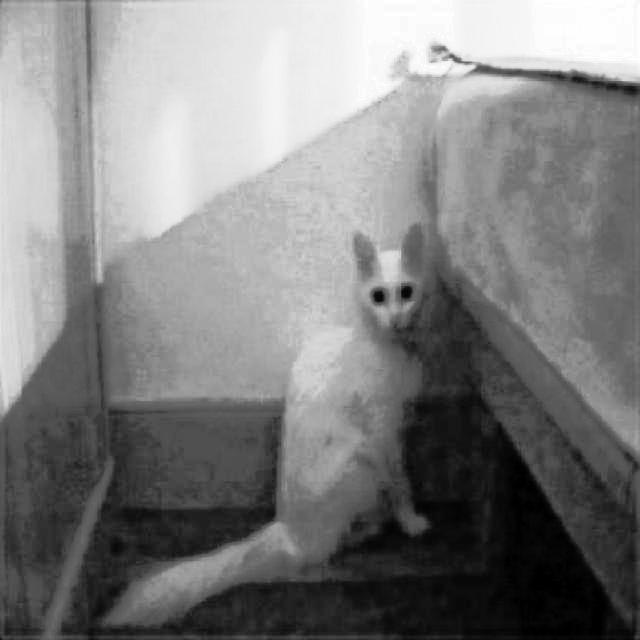Cat: (91, 215, 444, 634)
